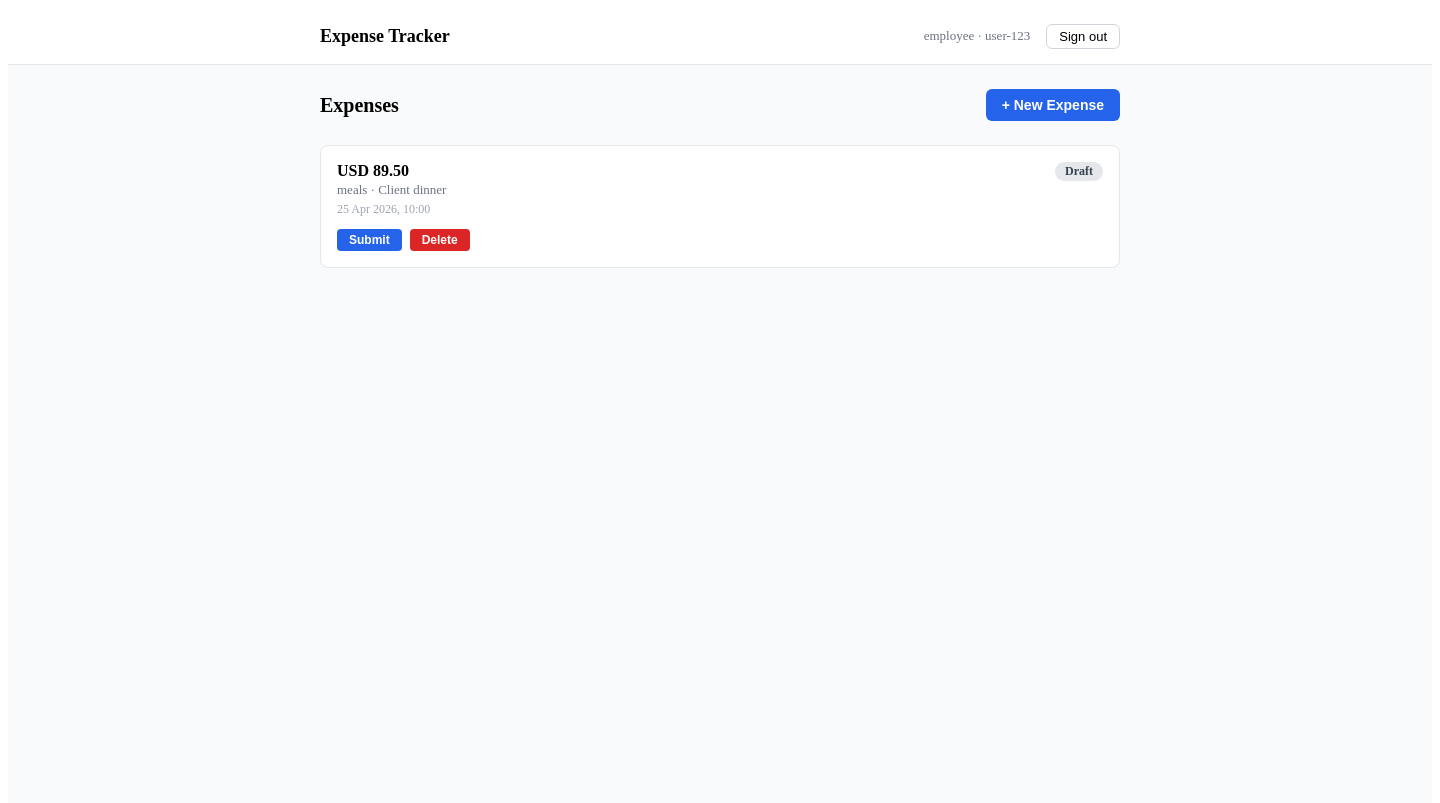
Test case: Create expense flow › shows a server error message when creation fails
Step 1. Click the button "+ New Expense" → x=1053, y=105, box 986,89 -> 1120,121
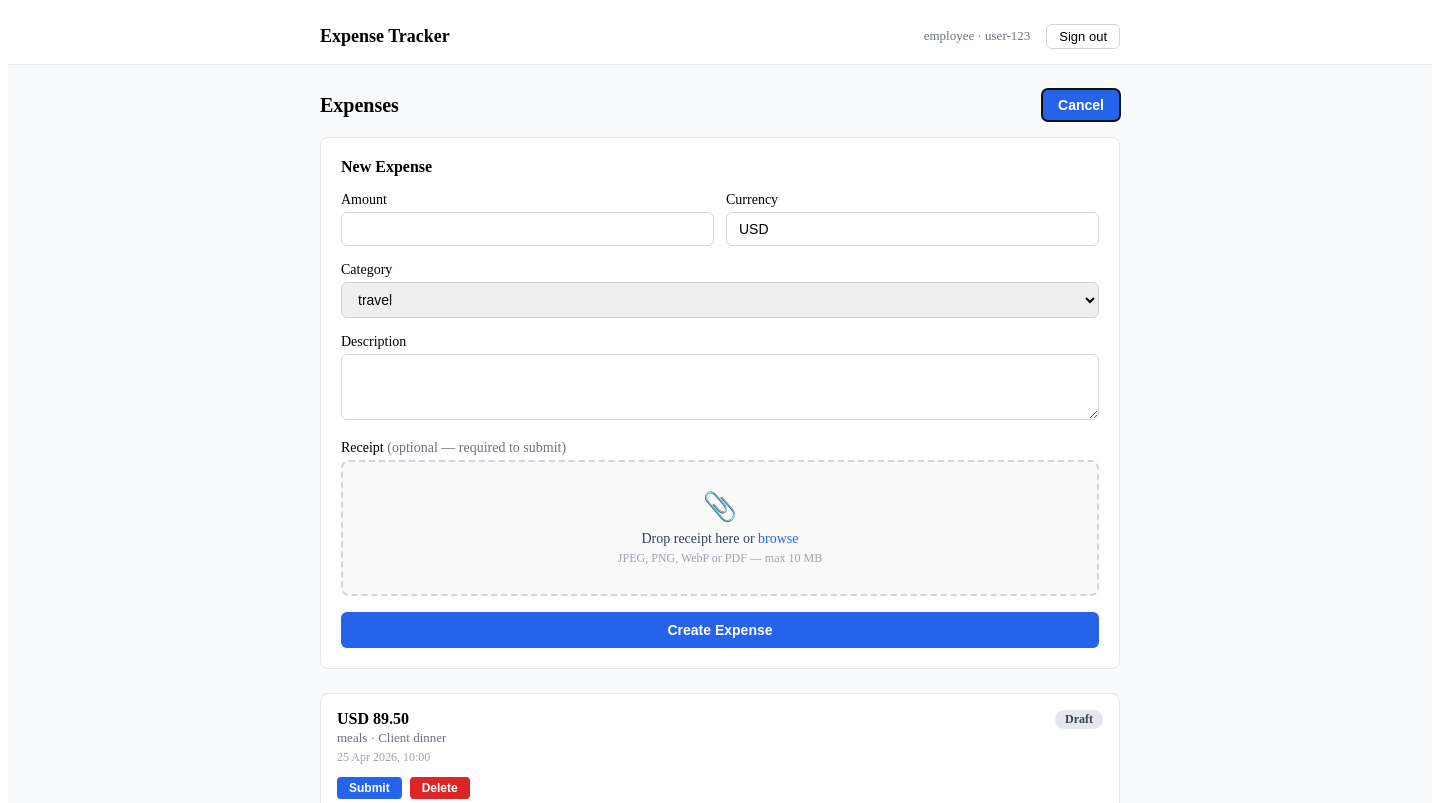
Step 2. Type "500" into the number field labelled "Amount" → x=528, y=229, box 341,212 -> 714,246
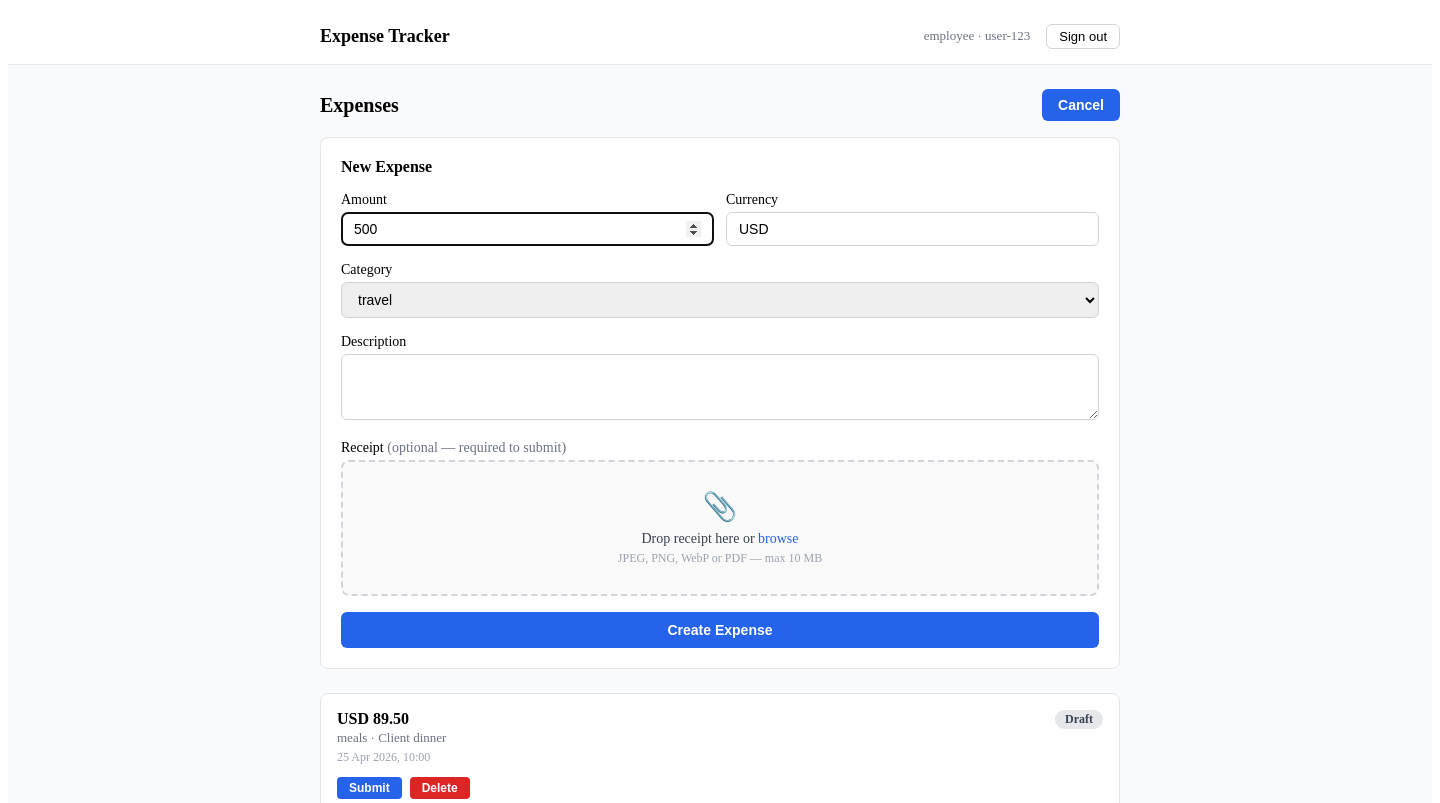
Step 3. Type "Valid description" into the text box labelled "Description" → x=720, y=387, box 341,354 -> 1099,420
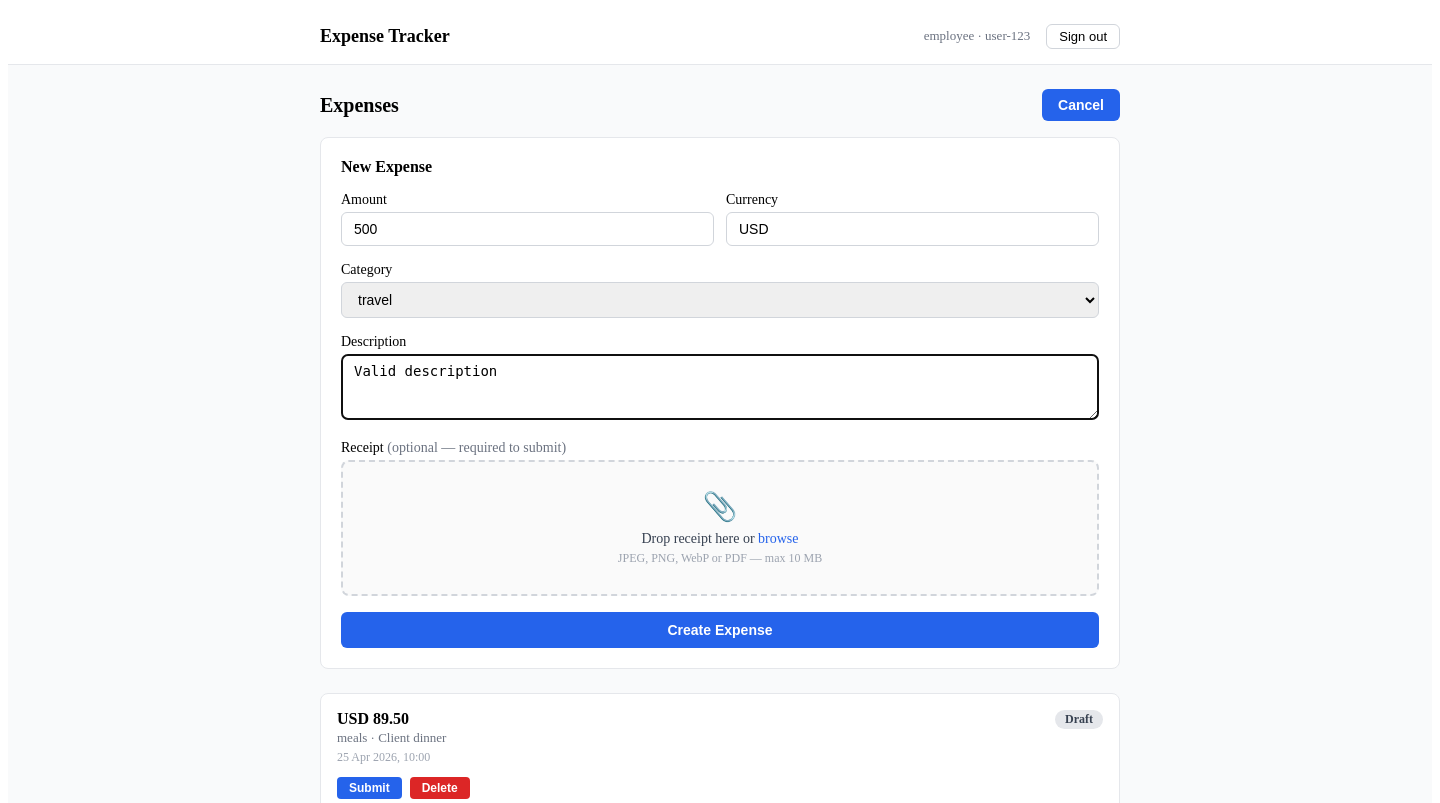
Step 4. Click the button "Create Expense" → x=720, y=630, box 341,612 -> 1099,648
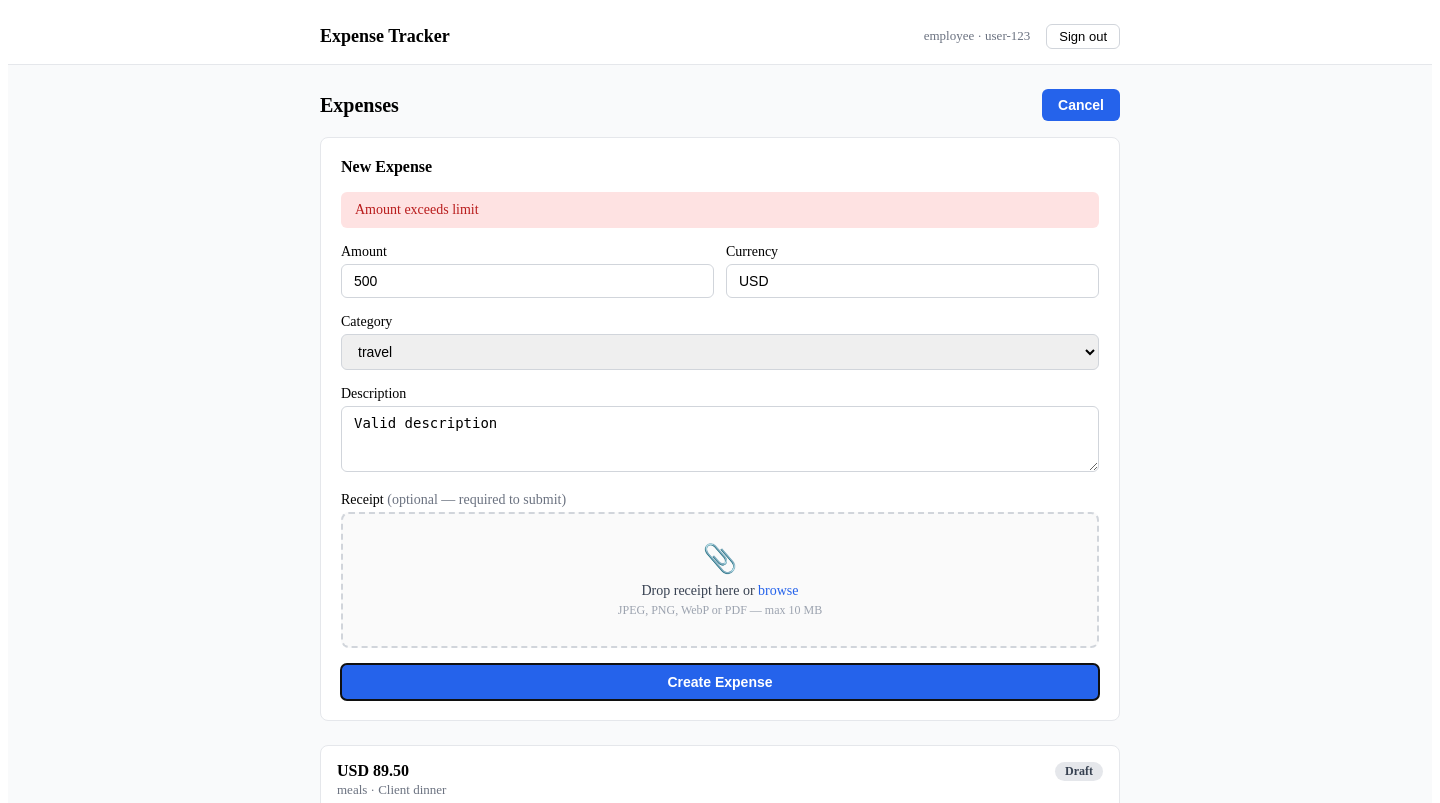
Now the text "Amount exceeds limit" is shown, box 341,192 -> 1099,228
